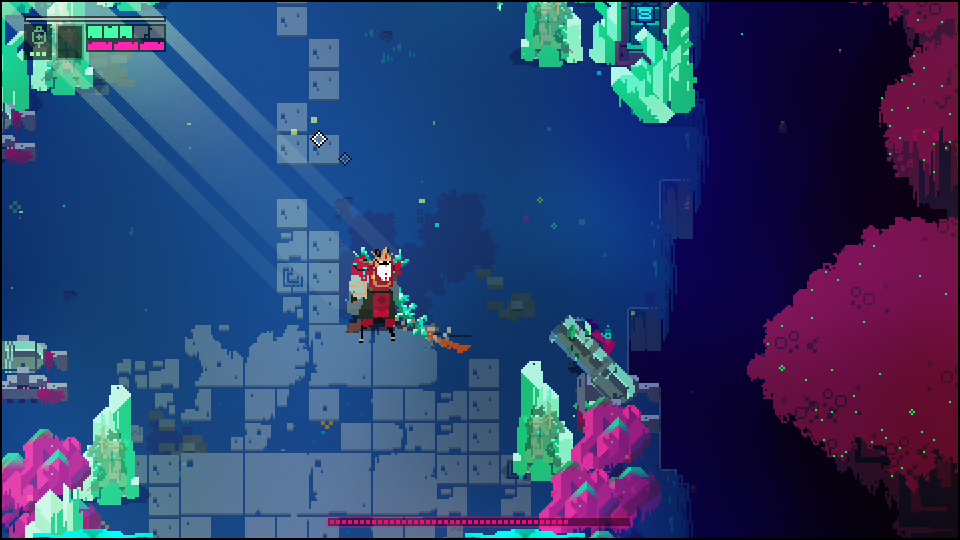hanged_man: (347, 246, 433, 345)
